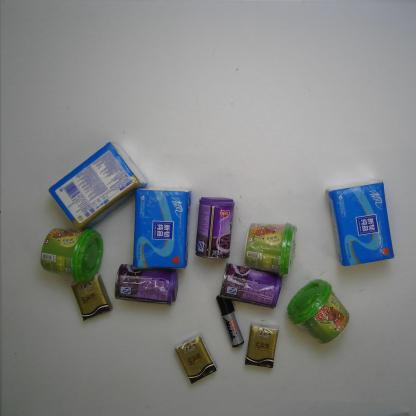Canned Food: (111, 262, 181, 307), (218, 262, 283, 310), (193, 194, 236, 260)
Instant Drink: (286, 278, 350, 344), (37, 225, 105, 286), (243, 221, 298, 278)
Stationery: (215, 293, 245, 348)
Tissue: (45, 140, 150, 234), (326, 178, 395, 268), (128, 185, 193, 271), (68, 272, 115, 323), (174, 331, 218, 385), (244, 321, 279, 369)
